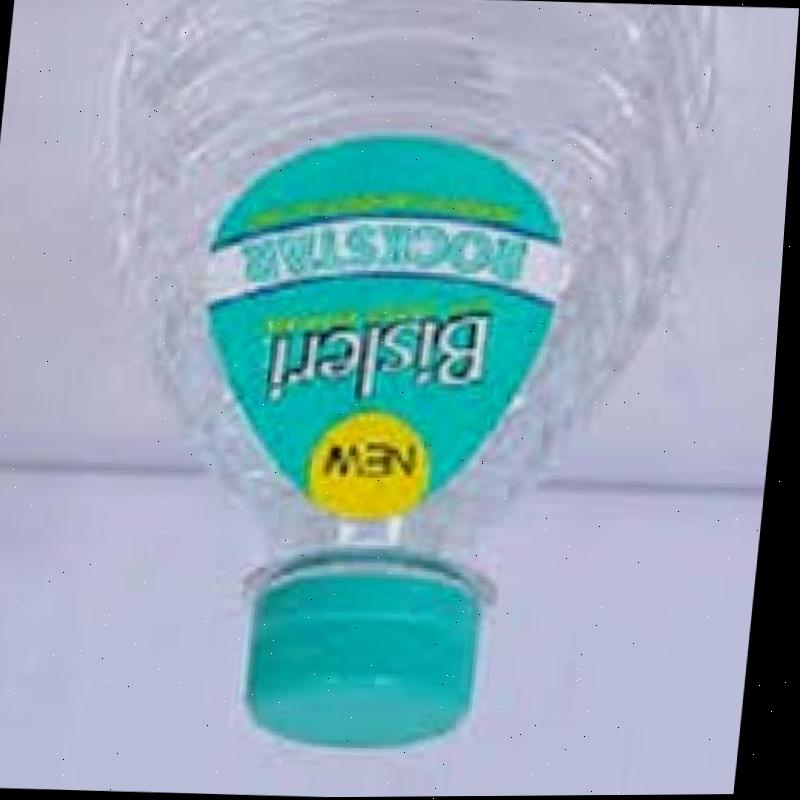botella: (56, 0, 720, 759)
